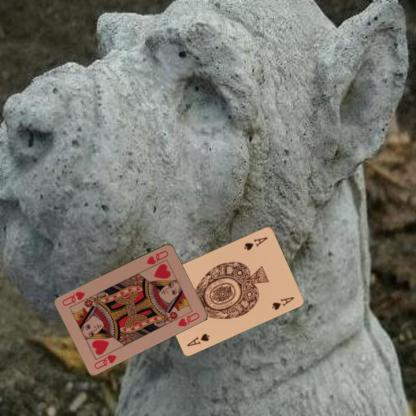As: (242, 233, 269, 252), (184, 330, 210, 348)
Qh: (143, 247, 170, 266), (91, 352, 118, 370)
